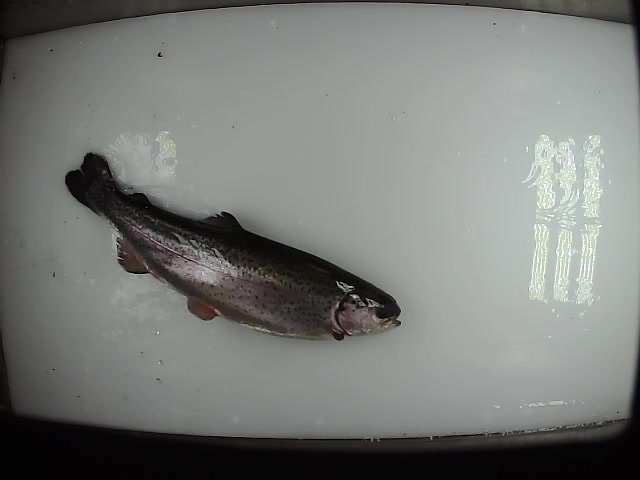fish: (62, 150, 404, 345)
